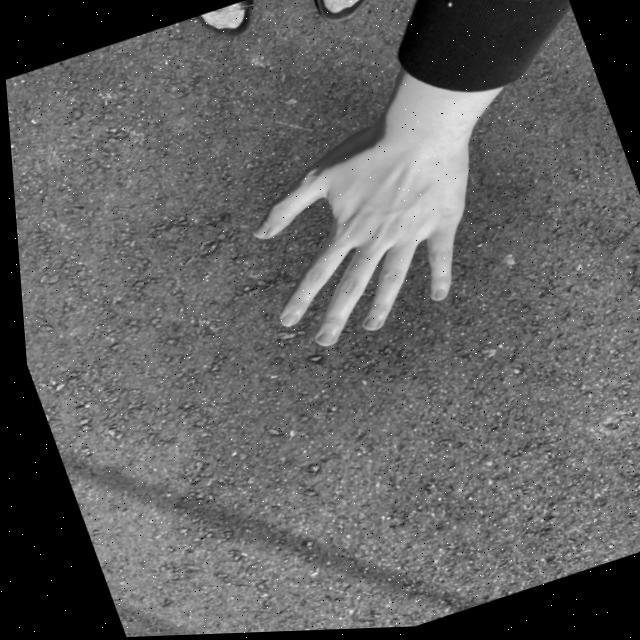no-gloves: (215, 105, 524, 368)
